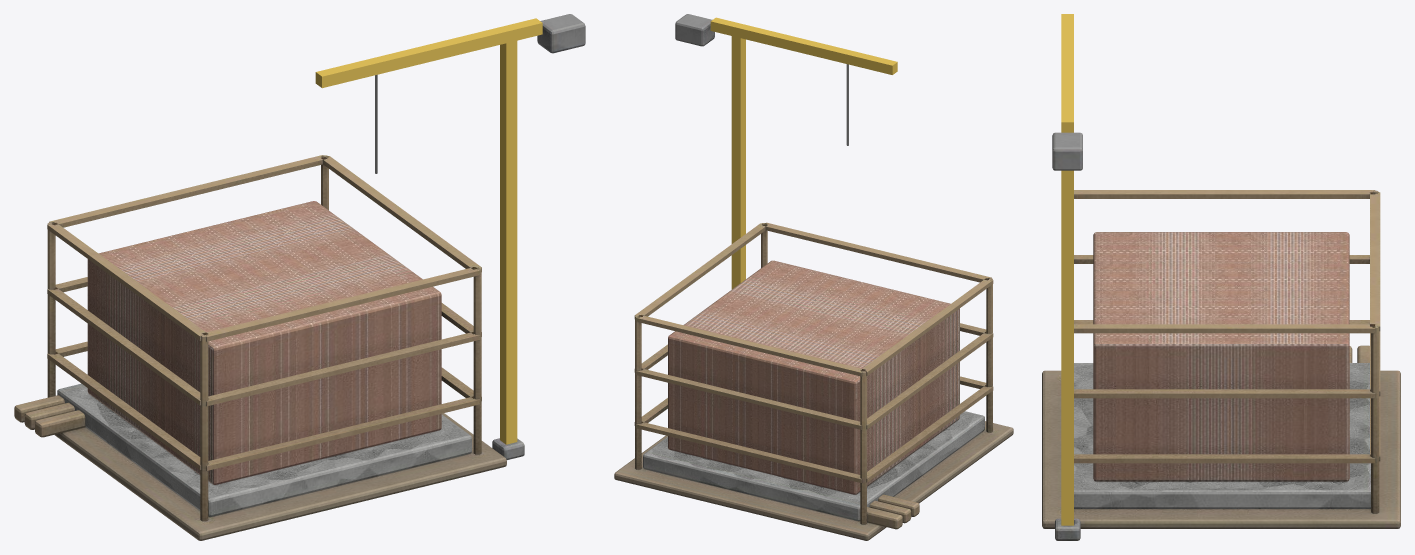
Rendered from baustelle2.glb.
3 renders of one model, left to right at view 1: azimuth 30°, elevation 25°; view 2: azimuth 150°, elevation 25°; view 3: azimuth 270°, elevation 25°, orthographic. The views are drawn at different scales.
Visible parts, largest first — view 1: baustelle2, baustelle2_details; view 2: baustelle2, baustelle2_details; view 3: baustelle2, baustelle2_details.
Boxes of the visible parts, <box> form: baustelle2: <box>14,14,585,540</box>; baustelle2_details: <box>315,18,542,444</box>; baustelle2: <box>614,14,1013,540</box>; baustelle2_details: <box>710,17,897,289</box>; baustelle2: <box>1042,132,1400,540</box>; baustelle2_details: <box>1061,14,1073,525</box>.
Bounding box in the file's own units: 0.94 × 0.925 × 0.7.
Materials: 3 (1 with a texture image).
